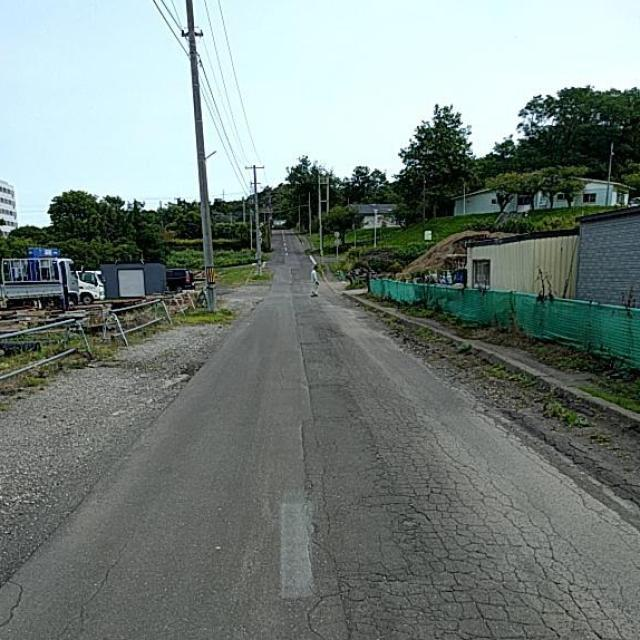Retak Buaya: (330, 413, 638, 640)
